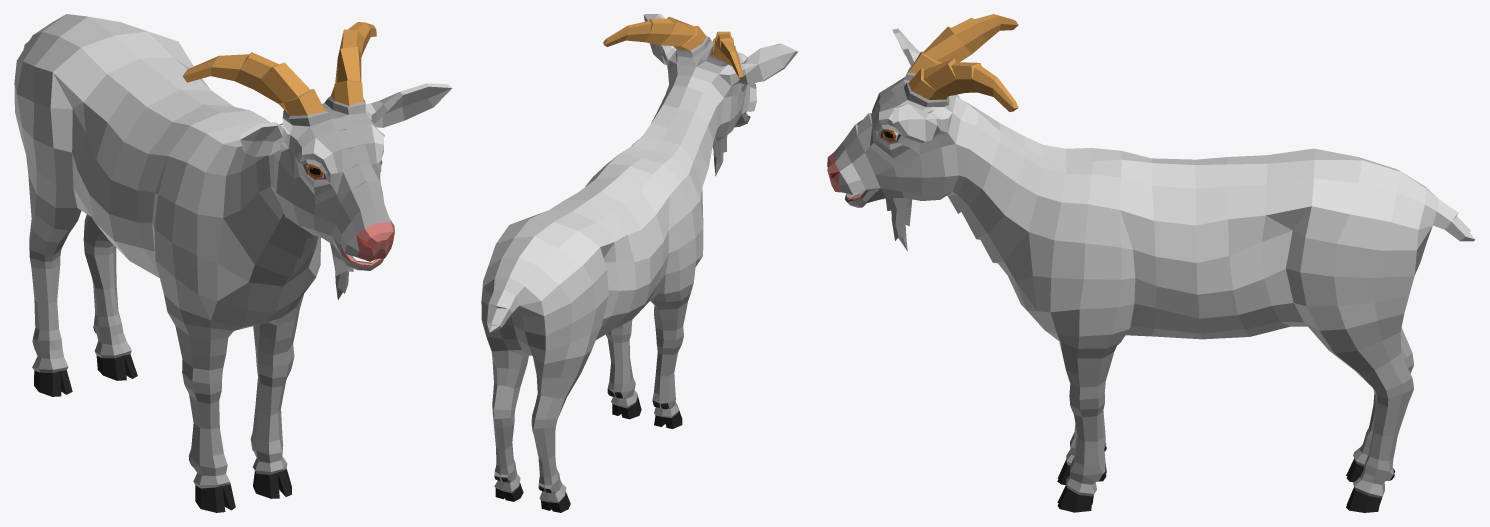
The model's file is LowPoly_Goat_Male_1.obj.
The picture shows the model from 3 angles, left to right: view 1: azimuth 30°, elevation 25°; view 2: azimuth 150°, elevation 25°; view 3: azimuth 270°, elevation 25°; orthographic projection. The views are drawn at different scales.
Visible parts, largest first — view 1: Goat_Male_1_Cube; view 2: Goat_Male_1_Cube; view 3: Goat_Male_1_Cube.
Boxes of the visible parts, left/top/right/bottom form: Goat_Male_1_Cube: left=14, top=14, right=451, bottom=512; Goat_Male_1_Cube: left=481, top=14, right=798, bottom=512; Goat_Male_1_Cube: left=827, top=14, right=1475, bottom=512.
Size of the model in its own units: 0.4074 by 0.9092 by 1.19.
